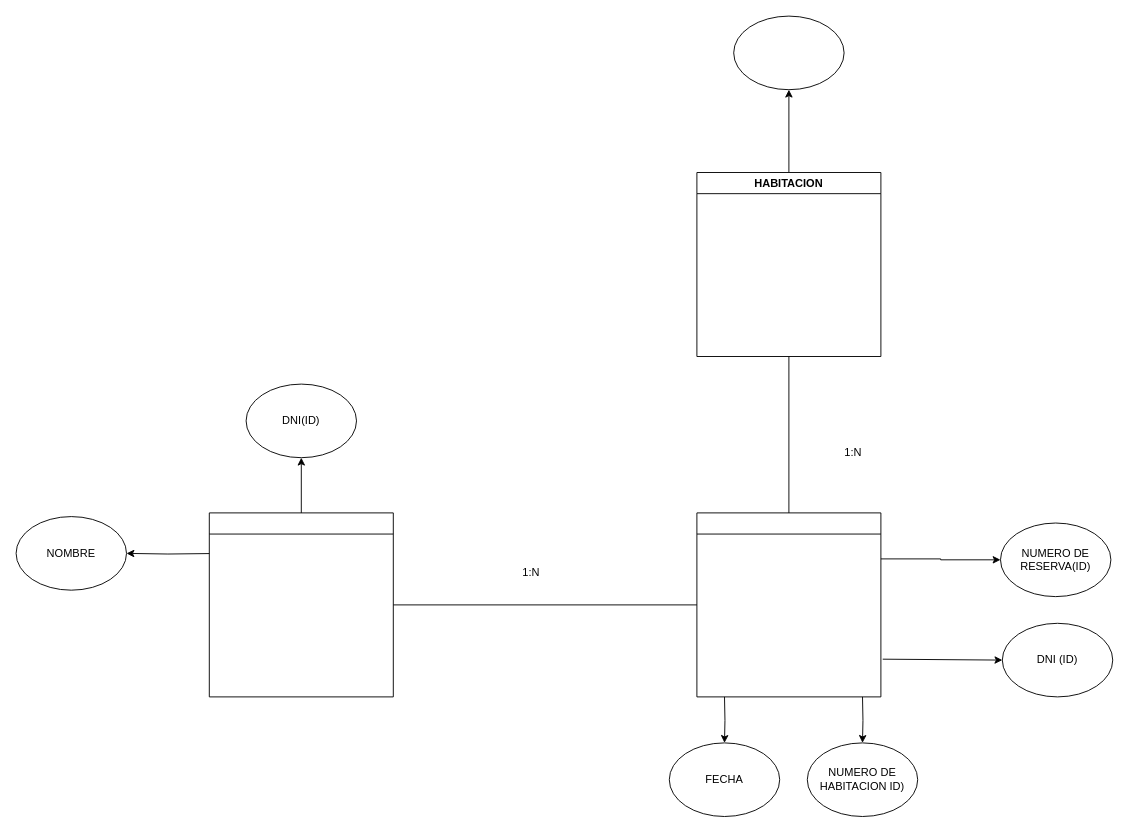
This 1129x833 diagram has some shape labels left out. The centre of each missing label's shape, as x and y in pixels:
"CLIENTE" belongs at (300,604).
"NUMERO DE HABITACION (ID)" belongs at (788,52).
"RESERVA" belongs at (788,604).
